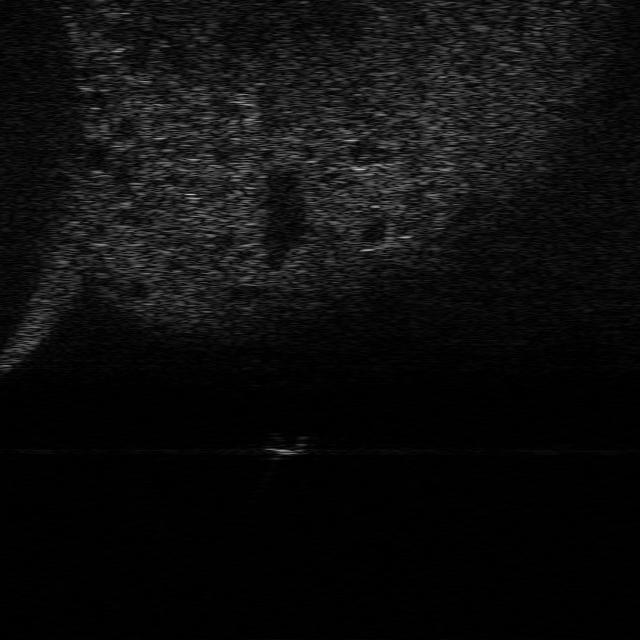cube: (265, 428, 309, 457)
